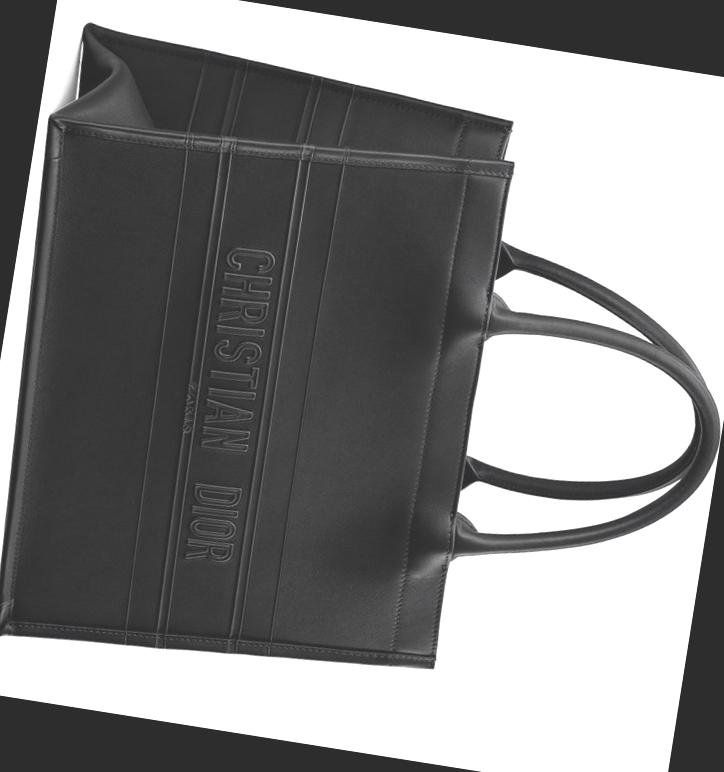DIOR: (154, 224, 297, 593)
